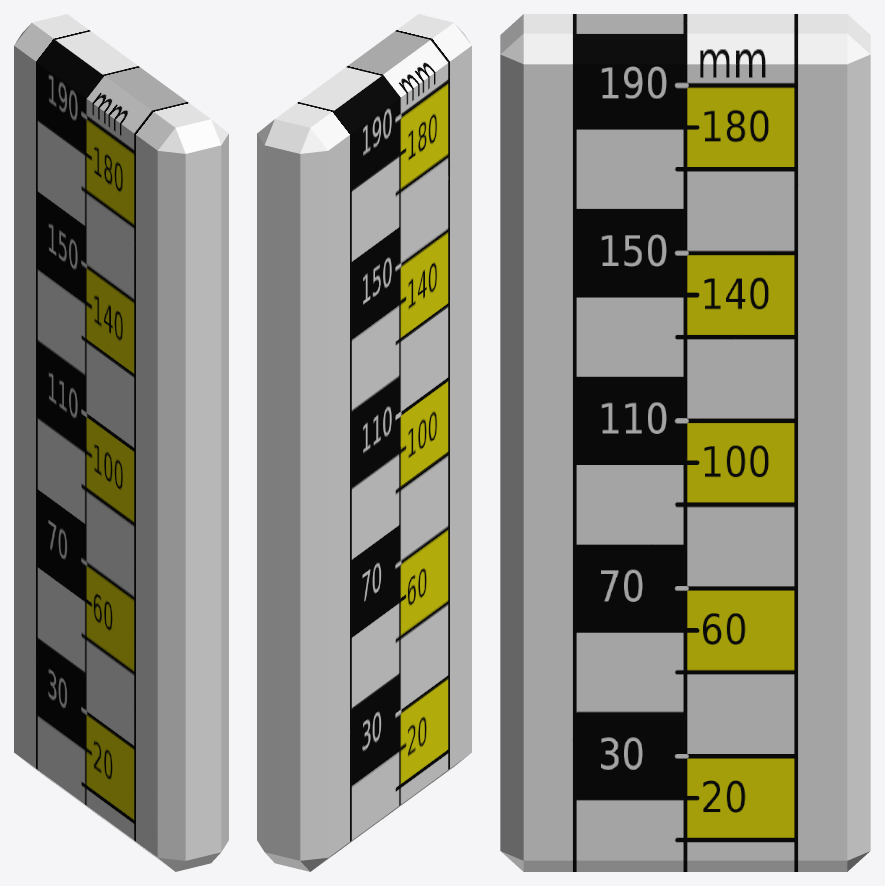
Rendered from Skala.fbx.
3 renders of one model, left to right at view 1: azimuth 30°, elevation 25°; view 2: azimuth 150°, elevation 25°; view 3: azimuth 270°, elevation 25°, orthographic. The views are drawn at different scales.
Visible parts, largest first — view 1: pCube1; view 2: pCube1; view 3: pCube1.
Part boxes in pixels (x1,y1,x2,y2): pCube1: (14,14,228,871); pCube1: (257,14,471,871); pCube1: (500,14,870,871).
Size of the model in its own units: 0.2 by 2 by 0.8.
